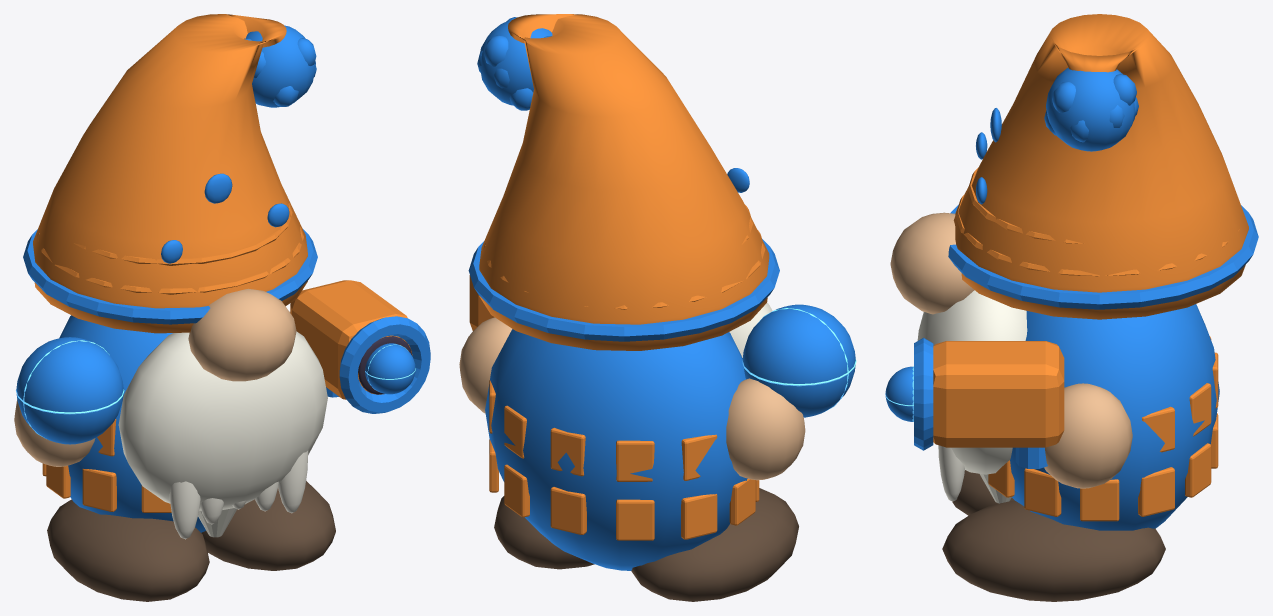
Rendered from gnome-ricochet.glb.
3 renders of one model, left to right at view 1: azimuth 30°, elevation 25°; view 2: azimuth 150°, elevation 25°; view 3: azimuth 270°, elevation 25°, orthographic. The views are drawn at different scales.
Visible parts, largest first — view 1: gnome-ricochet; view 2: gnome-ricochet; view 3: gnome-ricochet.
Boxes of the visible parts, <box> form: gnome-ricochet: <box>14,14,430,601</box>; gnome-ricochet: <box>459,14,856,601</box>; gnome-ricochet: <box>885,14,1258,601</box>.
Size of the model in its own units: 1.08 by 1.46 by 0.9017.
